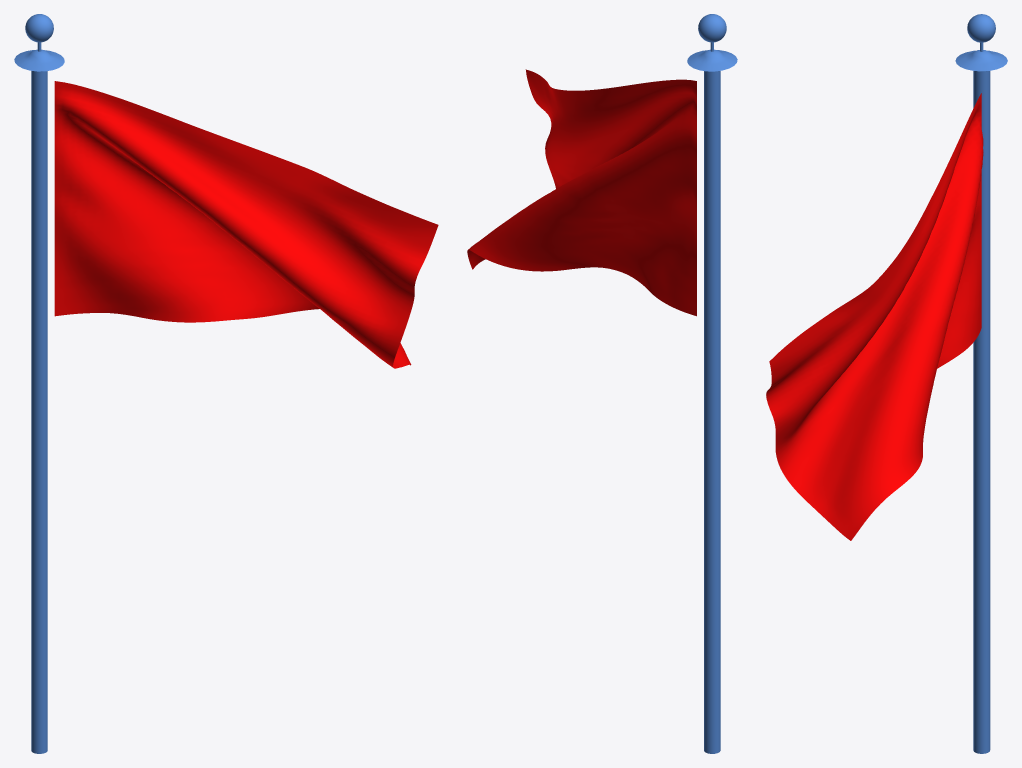
3 views of the same model, side by side, from view 1: azimuth 30°, elevation 25°; view 2: azimuth 150°, elevation 25°; view 3: azimuth 270°, elevation 25° (orthographic).
Parts seen in each view (by area): view 1: Plane001, Cylinder002, GeoSphere001; view 2: Plane001, Cylinder002, GeoSphere001, GeoSphere003; view 3: Plane001, Cylinder002, GeoSphere001, GeoSphere003.
Part boxes in pixels (x1,y1,x2,y2): Plane001: (54,81,438,368); Cylinder002: (31,71,47,753); GeoSphere001: (14,49,64,71); Plane001: (467,69,696,316); Cylinder002: (704,71,720,753); GeoSphere001: (687,49,737,71); GeoSphere003: (698,14,726,42); Plane001: (766,93,983,540); Cylinder002: (973,71,990,753); GeoSphere001: (955,50,1007,71); GeoSphere003: (967,14,995,42).
Size of the model in its own units: 65.4 by 141 by 41.91.
Materials: 2 (1 with a texture image).
